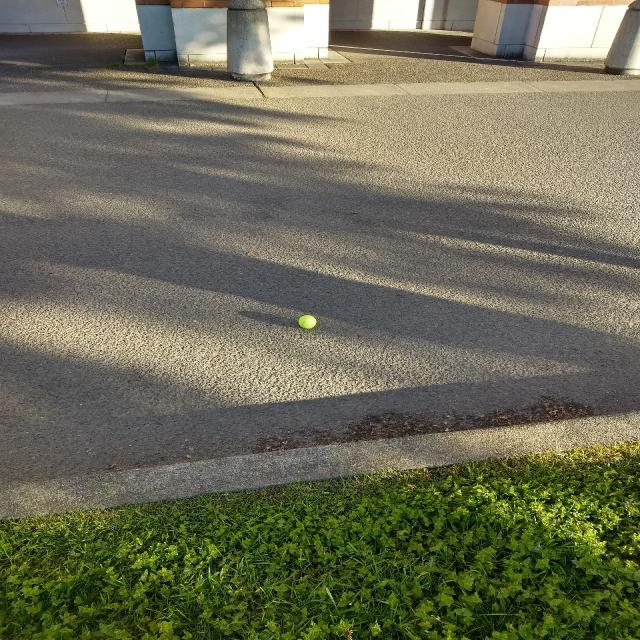ball: (299, 313, 316, 329)
